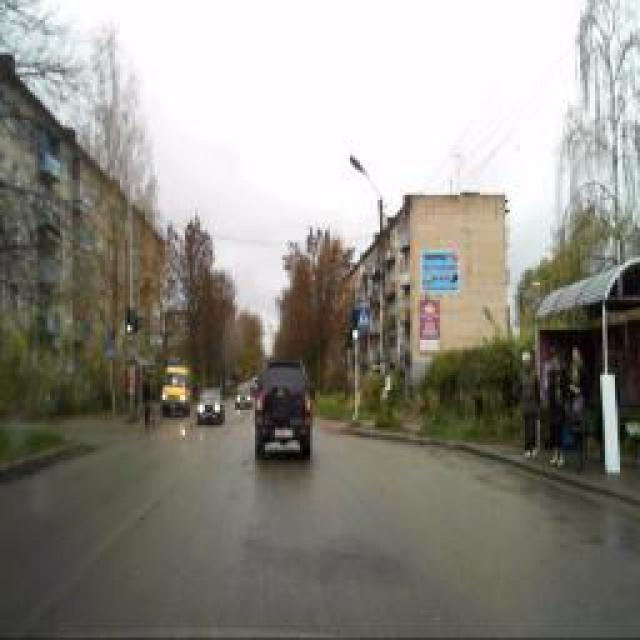sign: (356, 305, 372, 330), (103, 340, 115, 362)
